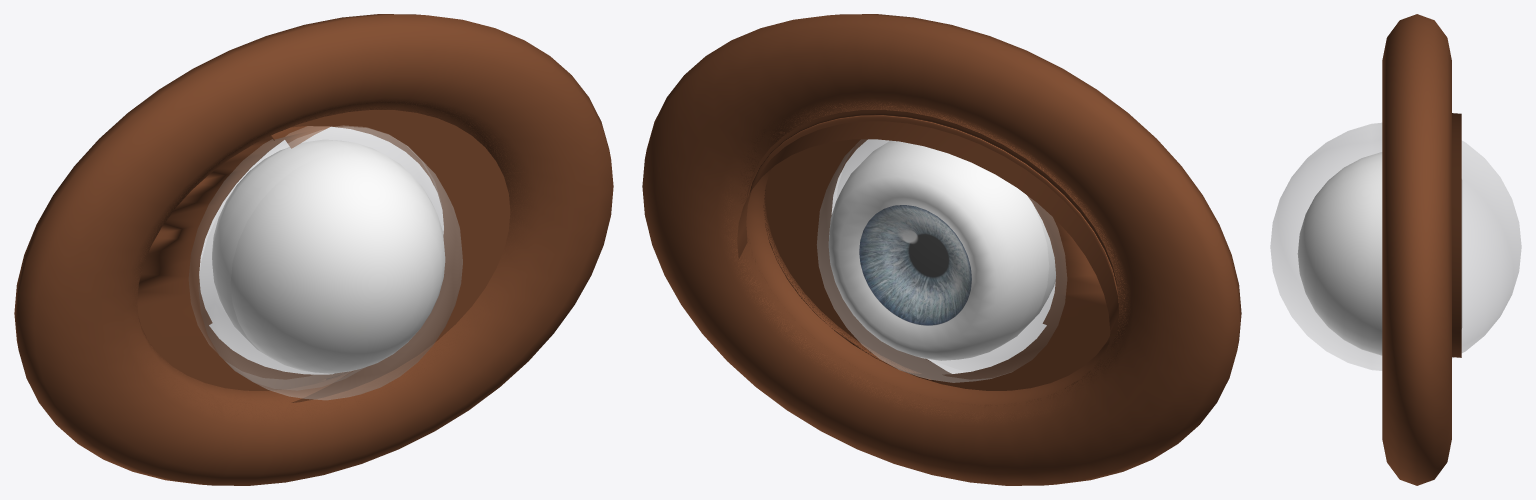
The model's file is eyeball.gltf.
The picture shows the model from 3 angles, left to right: view 1: azimuth 30°, elevation 25°; view 2: azimuth 150°, elevation 25°; view 3: azimuth 270°, elevation 25°; orthographic projection. The views are drawn at different scales.
Visible parts, largest first — view 1: Torus, Sphere.001, Sphere; view 2: Torus, Sphere.001, Sphere; view 3: Torus, Sphere.001, Sphere.
Boxes of the visible parts, x1=… form: Torus: x1=14, y1=14, x2=613, y2=485; Sphere.001: x1=189, y1=125, x2=462, y2=399; Sphere: x1=212, y1=139, x2=445, y2=373; Torus: x1=642, y1=14, x2=1241, y2=485; Sphere.001: x1=817, y1=139, x2=1066, y2=382; Sphere: x1=828, y1=140, x2=1055, y2=360; Torus: x1=1382, y1=14, x2=1461, y2=485; Sphere.001: x1=1270, y1=123, x2=1521, y2=370; Sphere: x1=1297, y1=152, x2=1462, y2=355.
Bounding box in the file's own units: 0.0848 × 0.0609 × 0.035.
3 materials, 1 textured.
